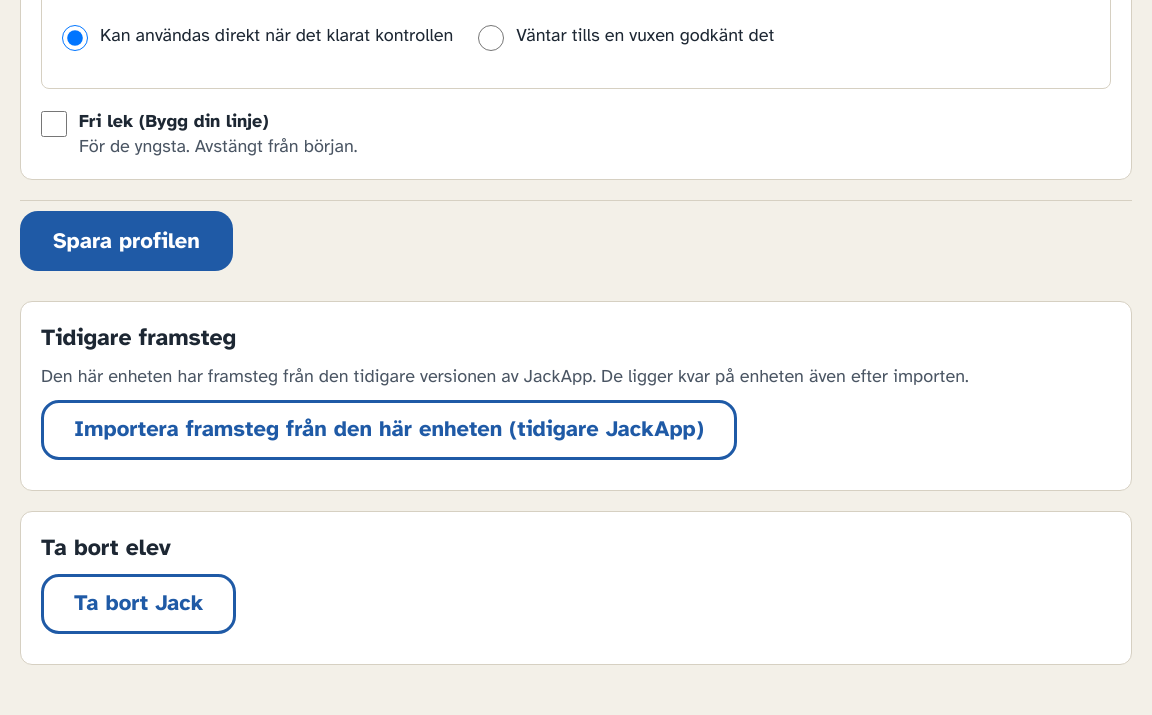
profile editor › imports legacy progress without deleting it from the device
(page scrolled)
Click the button "Importera framsteg från den här enheten (tidigare JackApp)": (389, 430) [41,400,737,460]
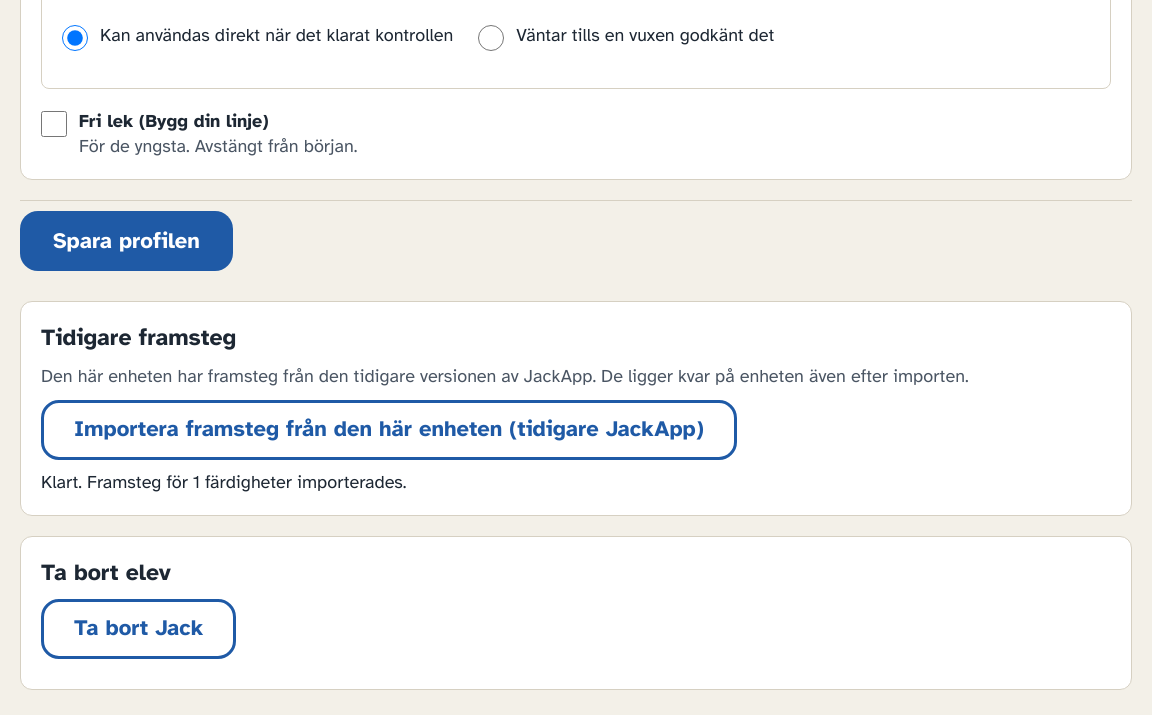
Now the text "Klart. Framsteg för 1 färdigheter importerades." is shown, box [41,470,406,492]
